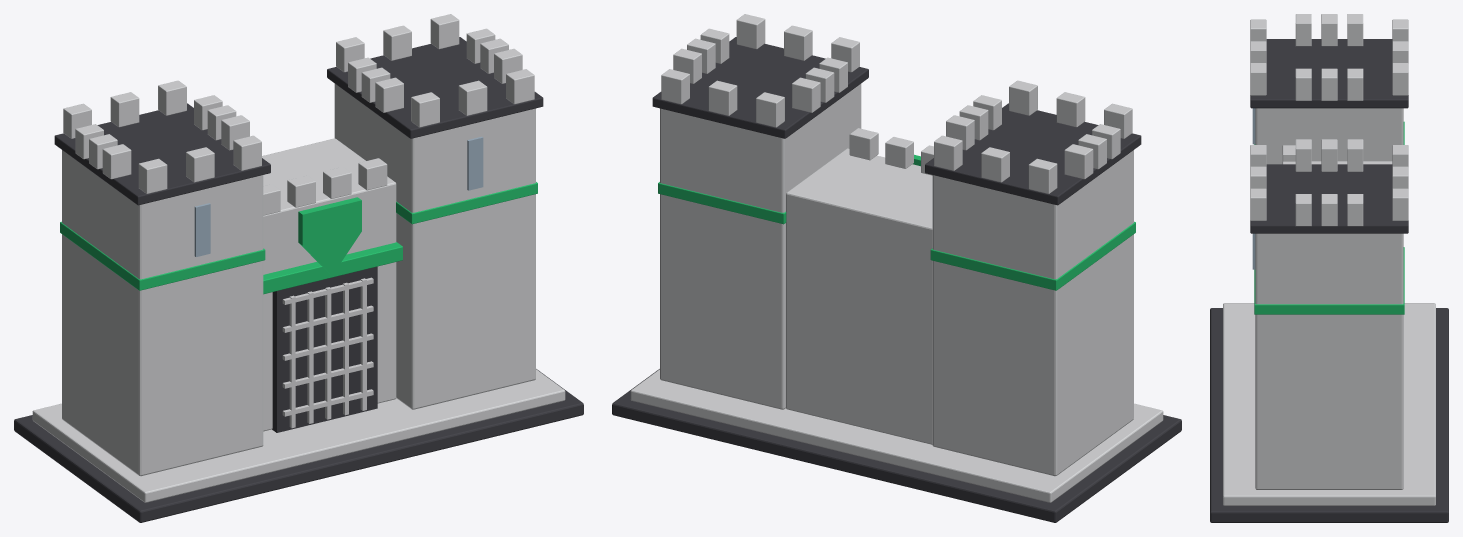
The model's file is gatehouse.glb.
3 views of the same model, side by side, from view 1: azimuth 30°, elevation 25°; view 2: azimuth 150°, elevation 25°; view 3: azimuth 270°, elevation 25° (orthographic). The views are drawn at different scales.
Parts seen in each view (by area): view 1: gatehouse, shield; view 2: gatehouse; view 3: gatehouse.
Part boxes in pixels (<box>): gatehouse: <box>14,14,583,522</box>; shield: <box>298,197,361,275</box>; gatehouse: <box>612,14,1181,522</box>; gatehouse: <box>1210,14,1448,522</box>.
Bounding box in the file's own units: 15 × 10.7 × 7.4.
